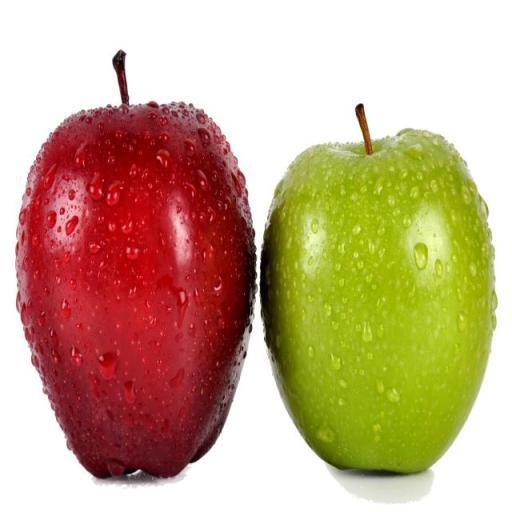fruit: (16, 51, 253, 476), (261, 121, 495, 472), (358, 105, 362, 120)
